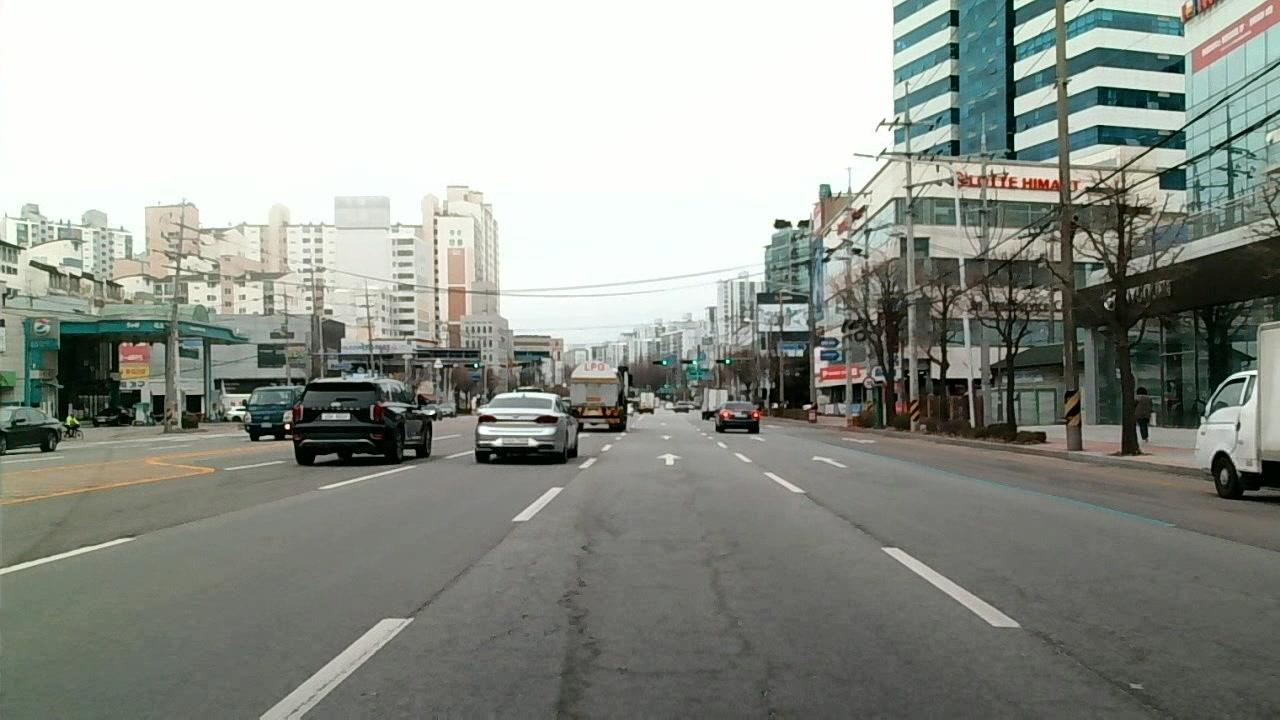hcrack: (601, 661, 710, 680)
vcrack: (1031, 622, 1181, 720), (712, 569, 788, 720), (416, 522, 523, 619), (559, 500, 598, 720), (802, 491, 881, 547), (73, 531, 138, 554)
